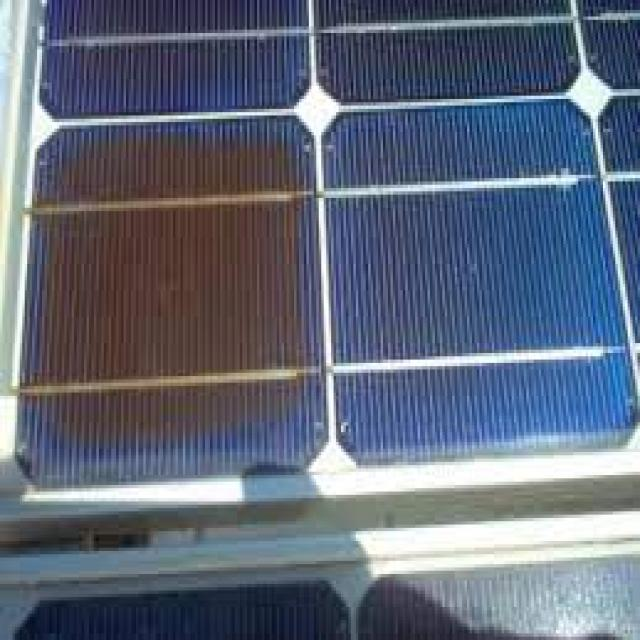faulty: (22, 0, 638, 505)
